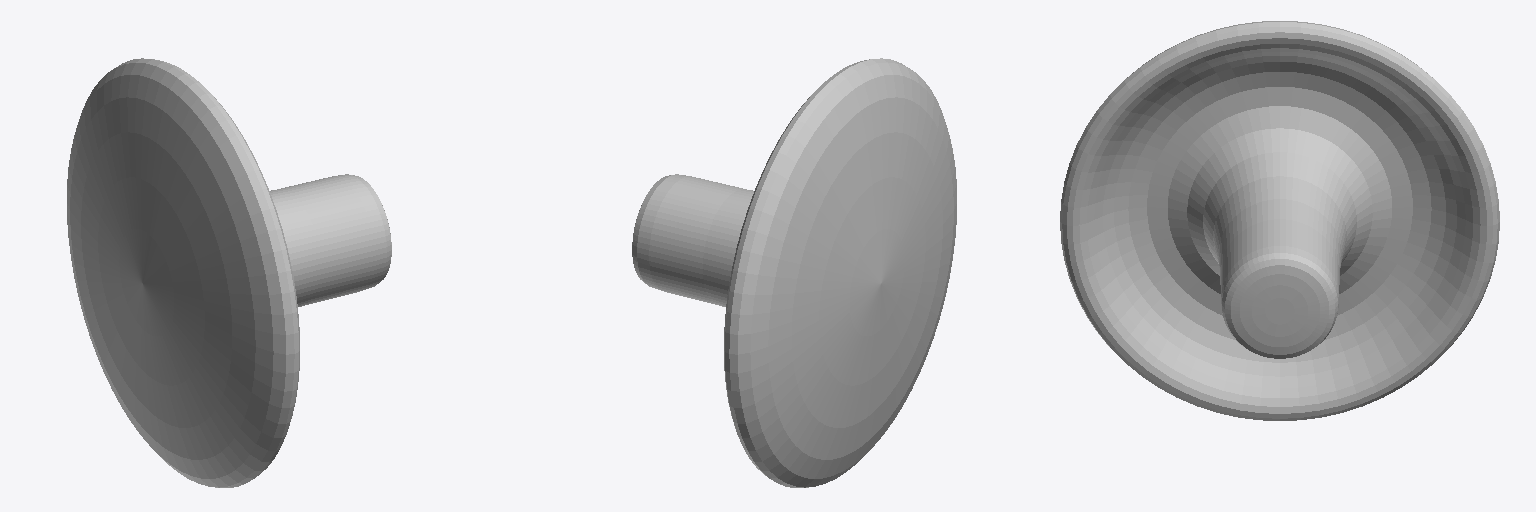
File: nose.obj
3 views of the same model, side by side, from view 1: azimuth 30°, elevation 25°; view 2: azimuth 150°, elevation 25°; view 3: azimuth 270°, elevation 25° (orthographic).
Visible parts, largest first — view 1: Plane; view 2: Plane; view 3: Plane.
Boxes of the visible parts, x1=… form: Plane: x1=67, y1=58, x2=391, y2=487; Plane: x1=632, y1=58, x2=956, y2=487; Plane: x1=1060, y1=21, x2=1499, y2=420.
Bounding box in the file's own units: 0.5715 × 0.9608 × 0.9608.